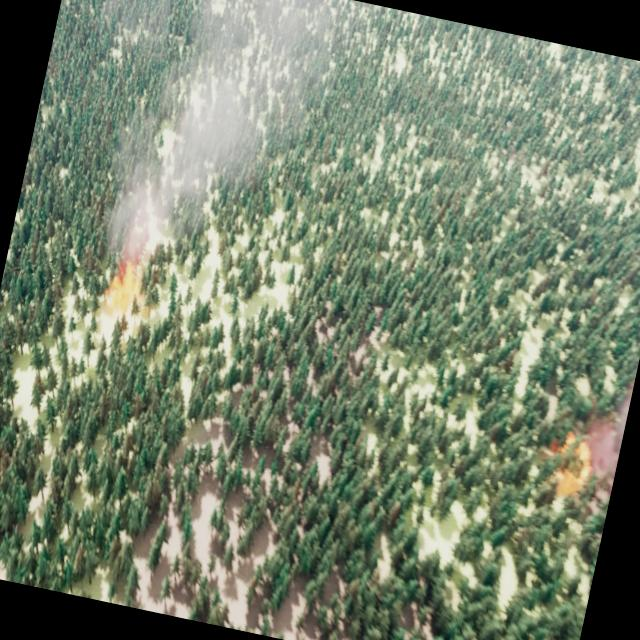fire: (541, 426, 597, 496), (98, 257, 151, 313)
smoke: (56, 0, 340, 294), (581, 386, 631, 491)
